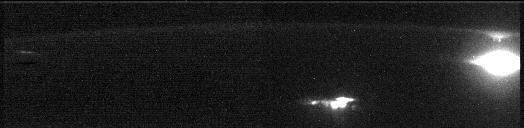negative: (481, 30, 514, 44)
